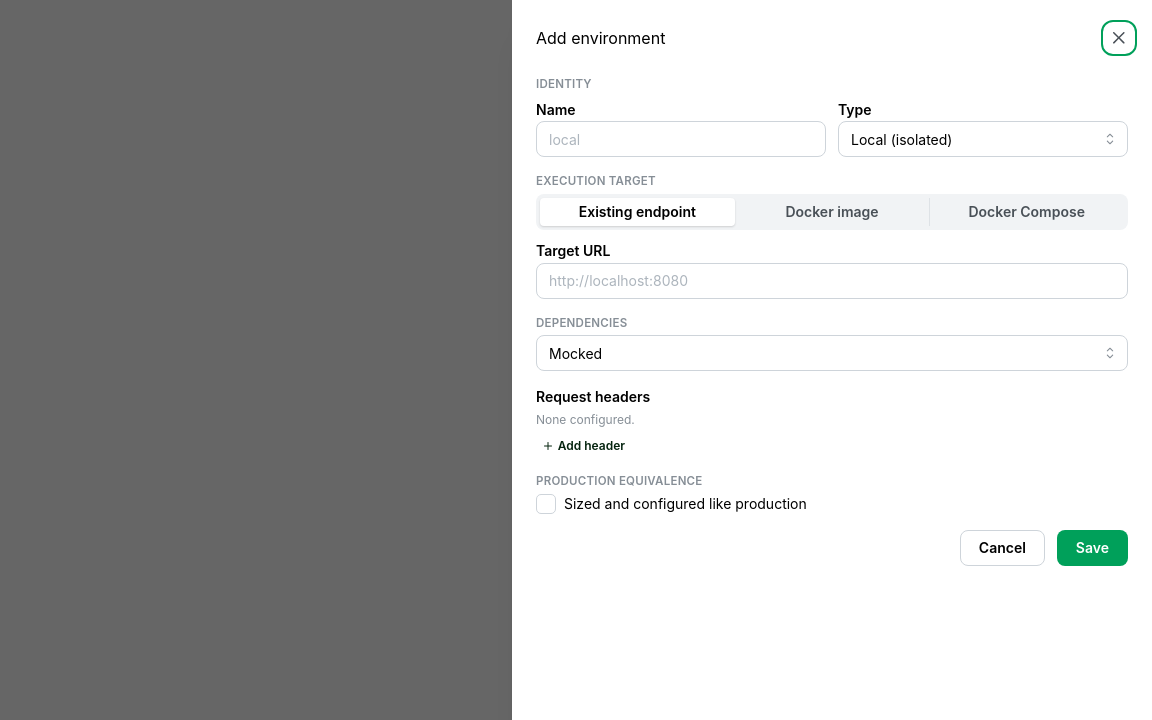
Test: EnvironmentDrawer › switches to the Compose fields when that target kind is selected
Click the radio button labelled "Docker Compose".
click(1027, 212)  # box [968,203,1085,220]
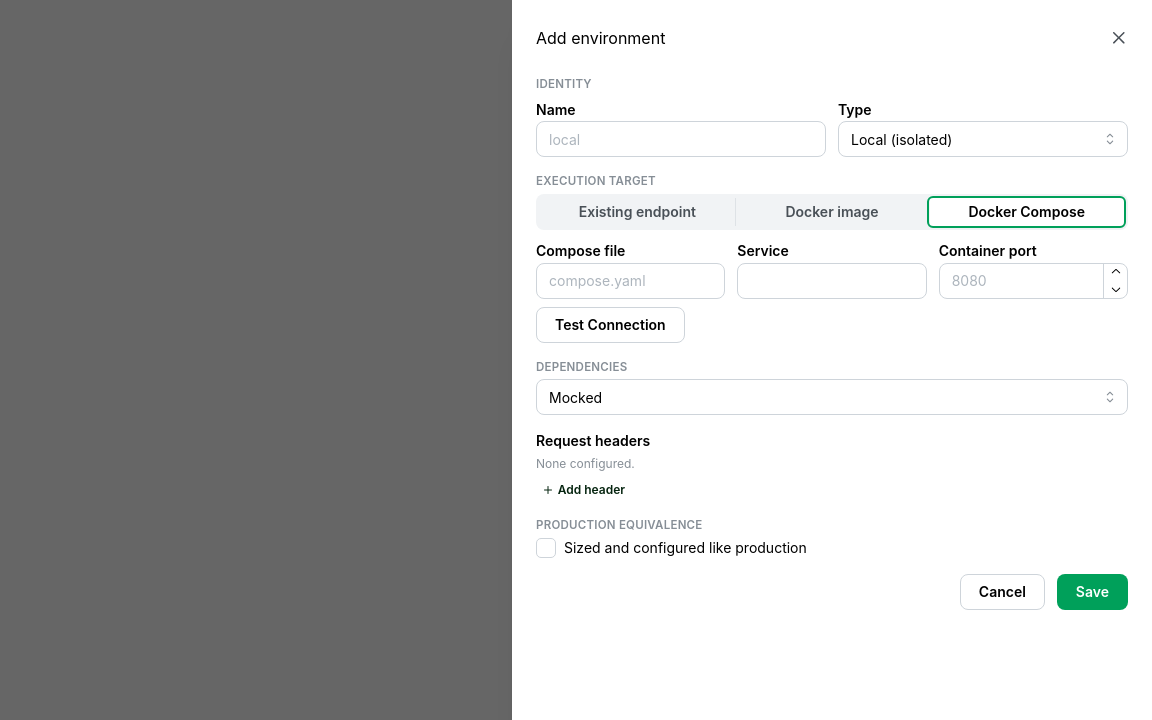
Expected: the label labelled "Target URL" is gone
Expected: the field labelled "Compose file" is shown, [536,263,725,299]
Expected: the field labelled "Service" is shown, [737,263,927,299]
